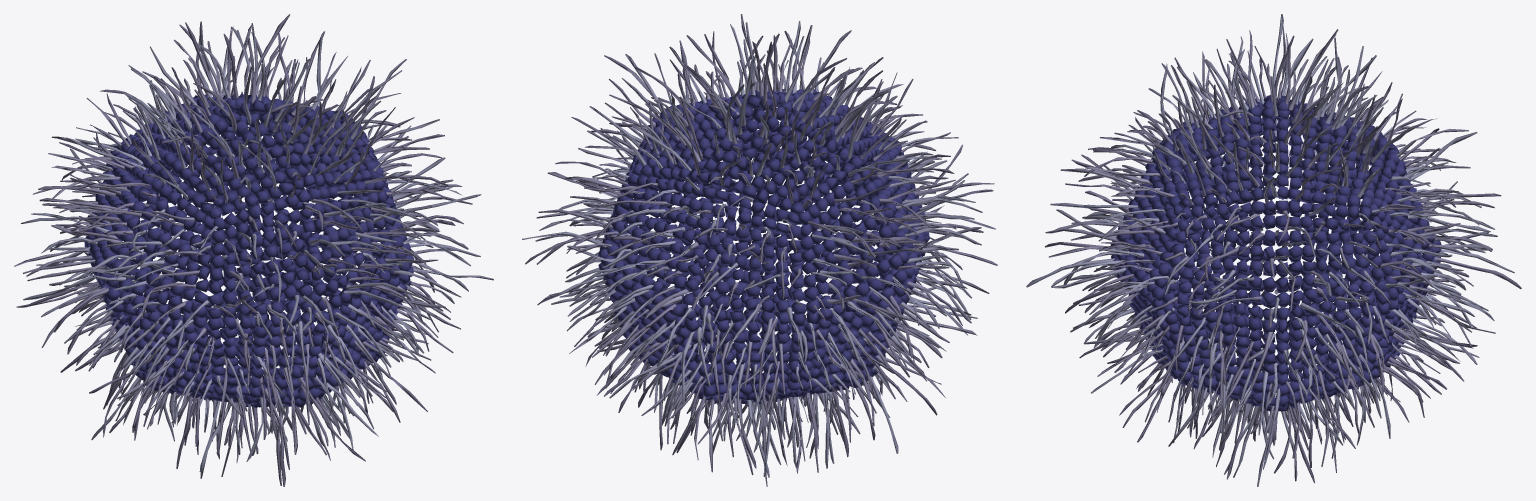
Rendered from sketchfab-mimivirus.glb.
3 renders of one model, left to right at view 1: azimuth 30°, elevation 25°; view 2: azimuth 150°, elevation 25°; view 3: azimuth 270°, elevation 25°, orthographic. The views are drawn at different scales.
Parts seen in each view (by area): view 1: Hairs_Low, Spheres_low; view 2: Hairs_Low, Spheres_low; view 3: Hairs_Low, Spheres_low.
Part boxes in pixels (x1,y1,x2,y2): Hairs_Low: (14,14,493,486); Spheres_low: (84,94,413,407); Hairs_Low: (522,14,997,486); Spheres_low: (598,89,929,403); Hairs_Low: (1026,14,1521,486); Spheres_low: (1110,95,1441,411).
Size of the model in its own units: 0.5587 by 0.5688 by 0.6063.
Materials: 2 (2 with a texture image).
